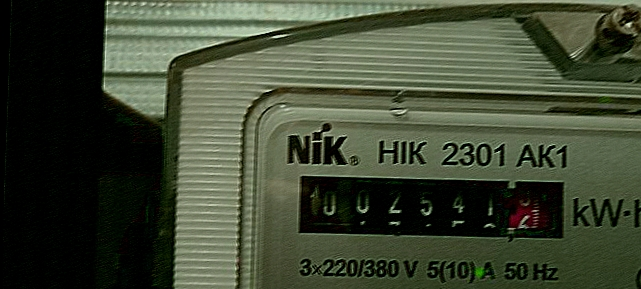0: (354, 185, 374, 218), (323, 190, 341, 219)
1: (482, 187, 499, 220)
2: (385, 185, 407, 220)
4: (451, 187, 469, 218)
5: (419, 188, 436, 221)
6: (517, 212, 534, 234)
screen: (285, 159, 588, 261)
